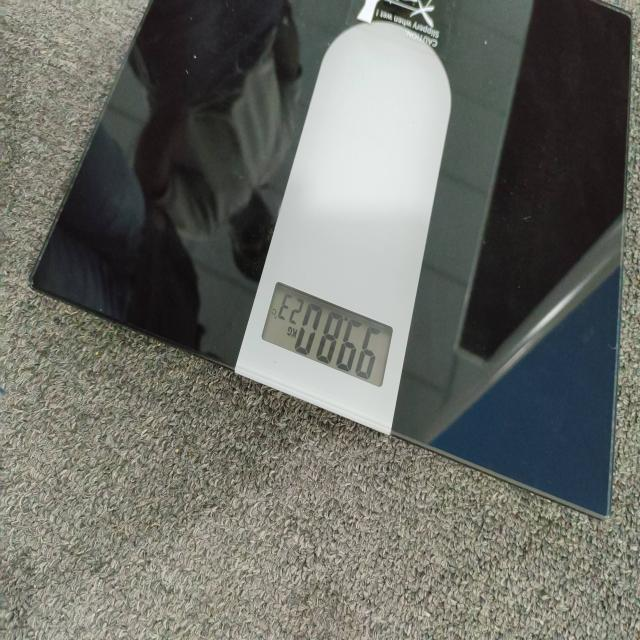ws: (234, 18, 453, 439)
